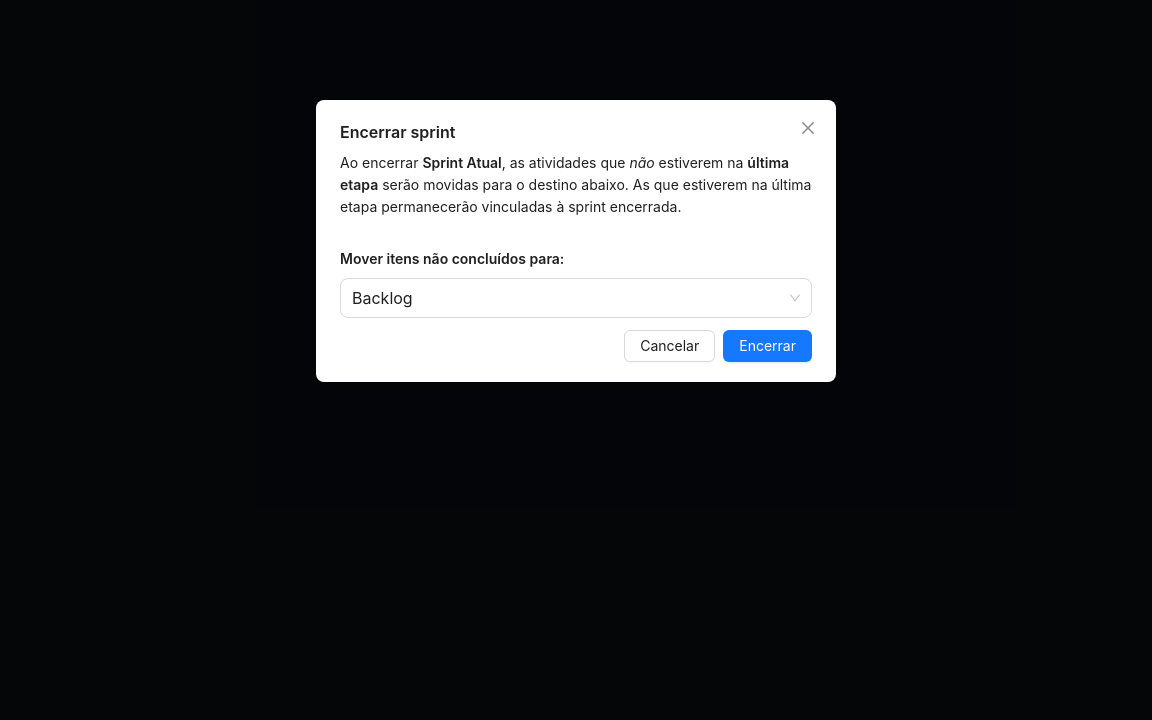
CloseSprintModal › carrega sprints abertas e NÃO inclui a sprint atual na lista
Press the mouse on the dropdown at (567, 298), box [352,279,782,317]
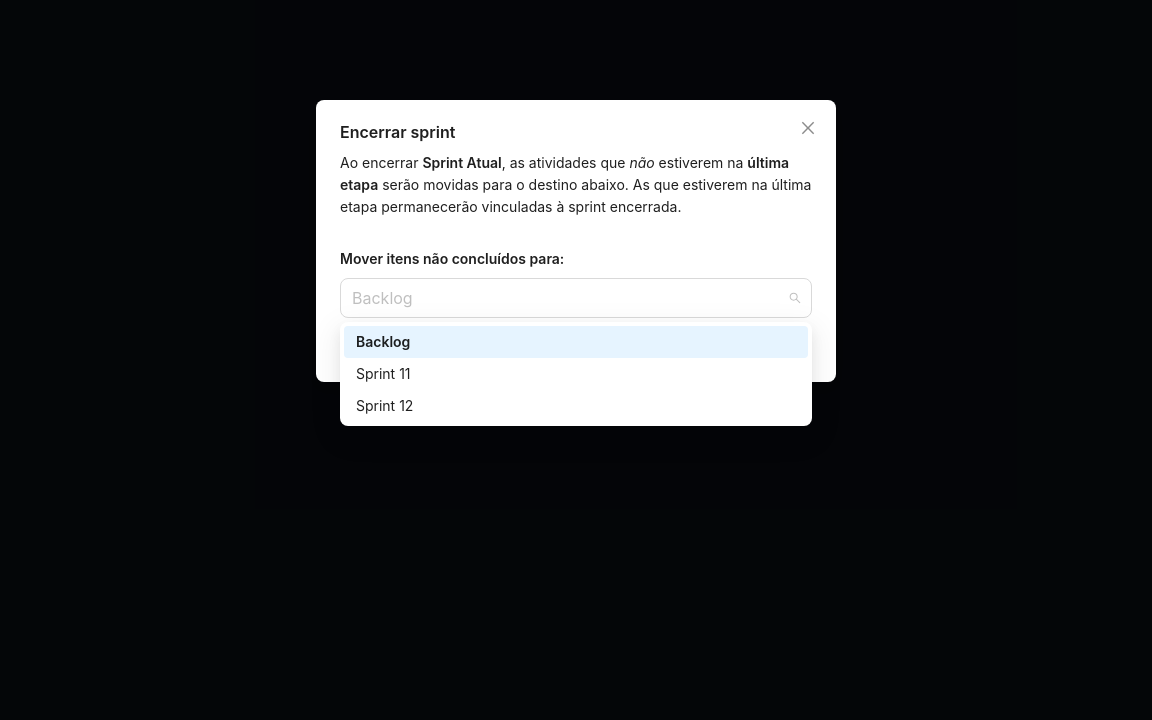
Expected: the 2nd text "Backlog" is shown, [356,333,410,350]
Expected: the text "Sprint 11" is shown, [356,365,410,382]
Expected: the text "Sprint 12" is shown, [356,397,413,414]
